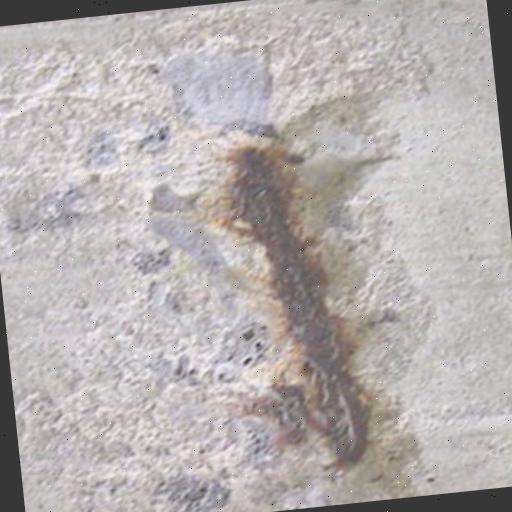spalling: (172, 64, 436, 486)
